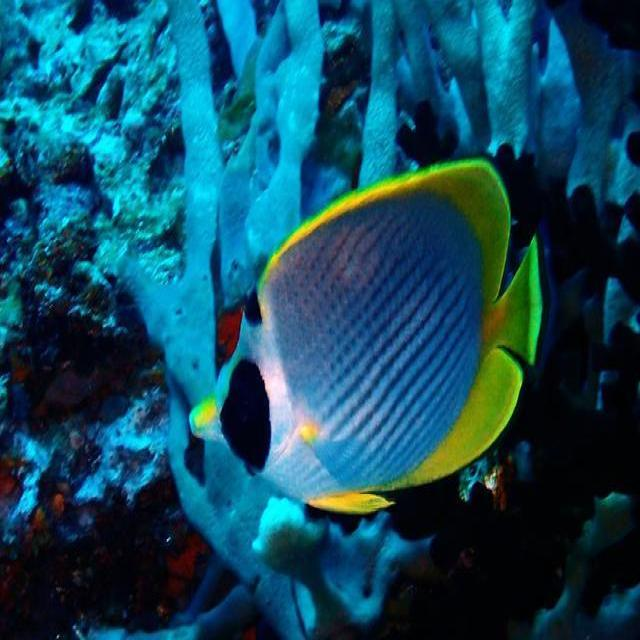ButterflyFish: (191, 164, 544, 524)
